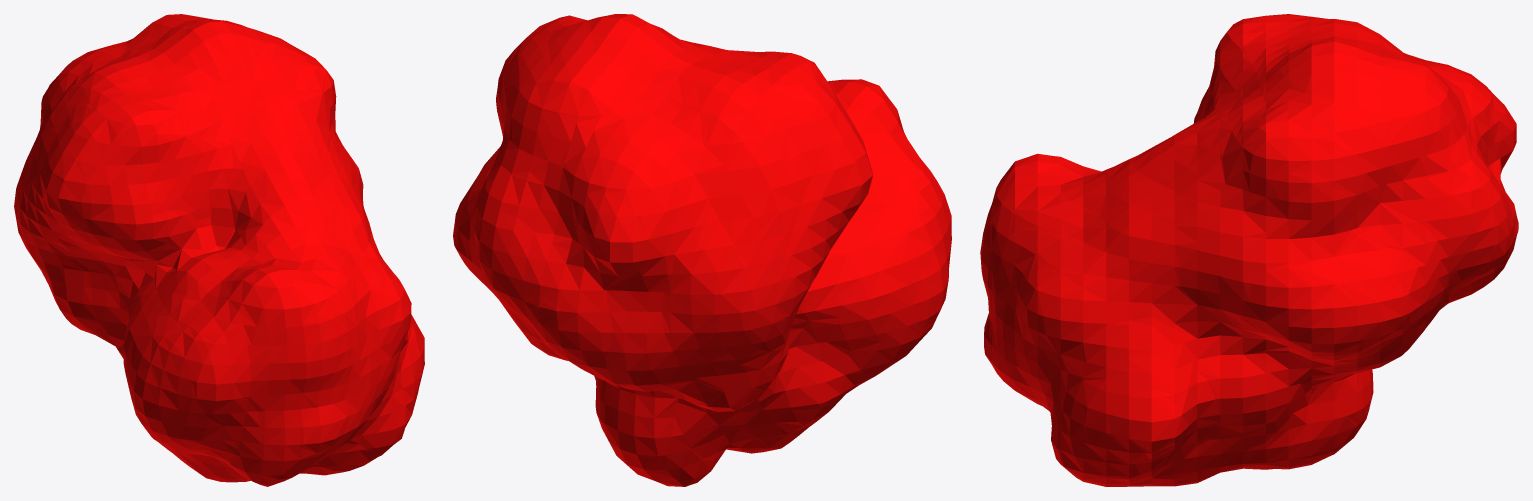
File: ybhA_coarse.dae
3 views of the same model, side by side, from view 1: azimuth 30°, elevation 25°; view 2: azimuth 150°, elevation 25°; view 3: azimuth 270°, elevation 25° (orthographic). The views are drawn at different scales.
Visible parts, largest first — view 1: ybhA; view 2: ybhA; view 3: ybhA.
Part boxes in pixels (box(x1,y1,x2,y2)): ybhA: box(14, 14, 424, 486); ybhA: box(453, 14, 951, 486); ybhA: box(980, 14, 1518, 486).
Size of the model in its own units: 43.35 by 52.13 by 57.87.
